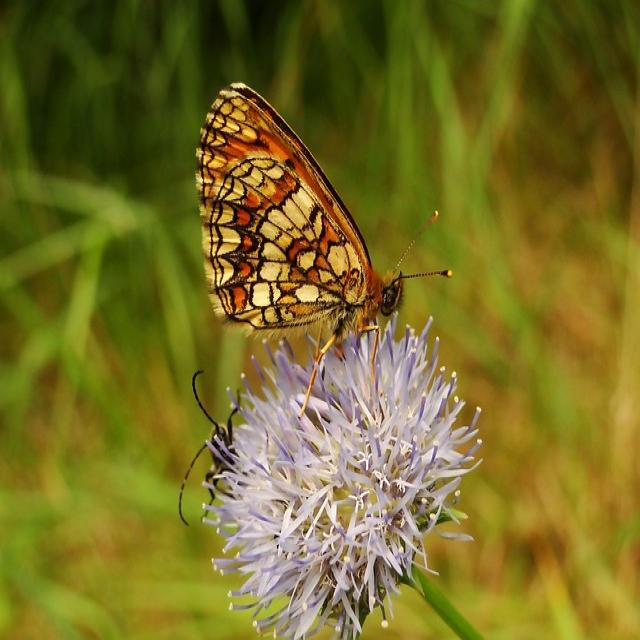butterfly: (194, 84, 402, 369)
